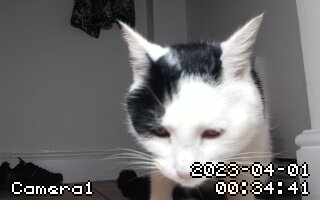bad: (112, 15, 278, 195)
